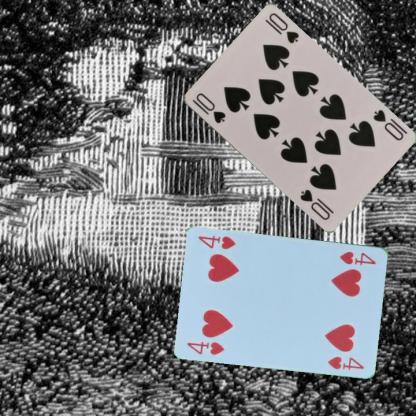10s: (189, 90, 227, 126), (370, 106, 404, 142)
4h: (185, 338, 226, 356), (337, 248, 377, 266)
